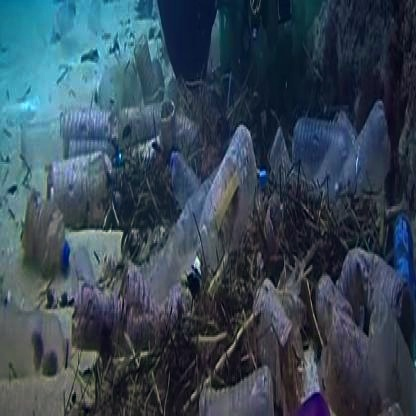pbottle: (177, 114, 254, 311), (70, 296, 190, 416), (281, 107, 372, 248), (22, 190, 79, 289), (200, 342, 272, 416), (60, 99, 101, 166)
